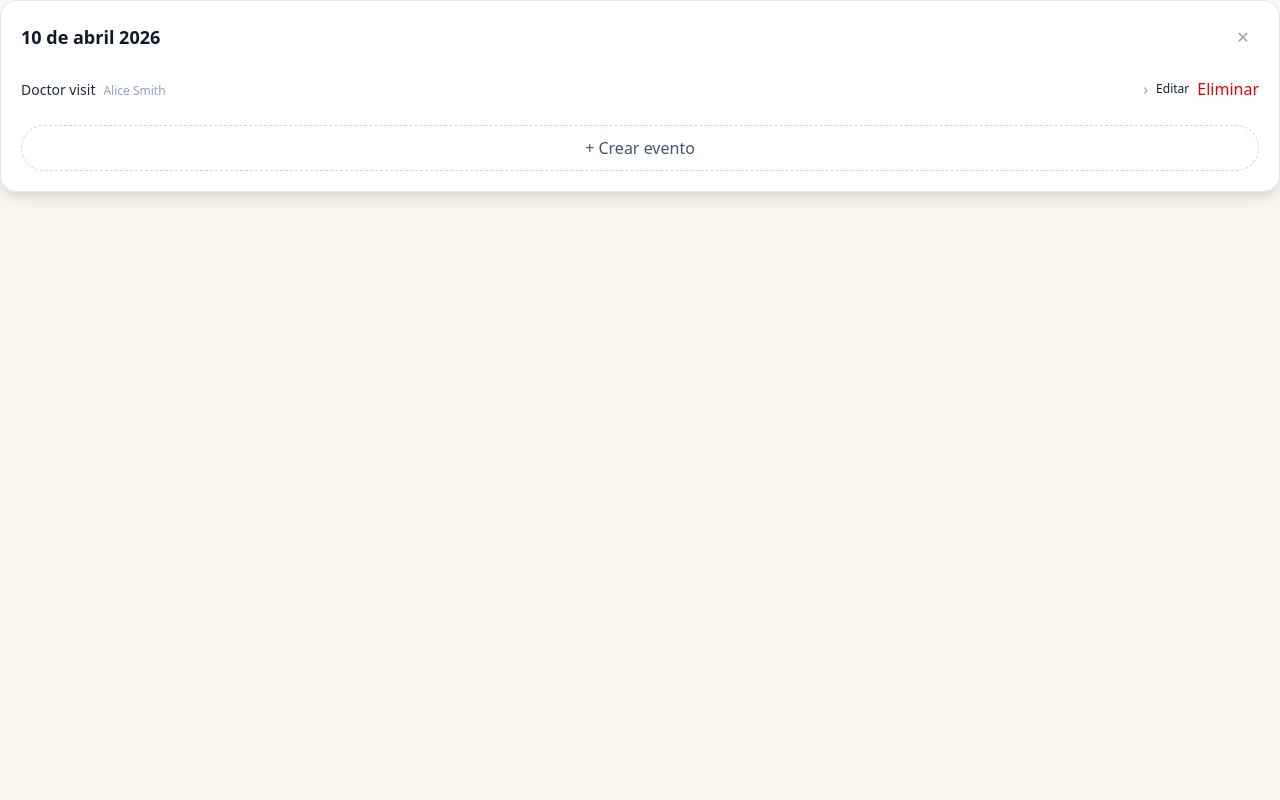
DayDetailPanel › opens the delete dialog when delete button is clicked
Click the button "Eliminar": [1228, 89] box [1197, 77, 1259, 101]
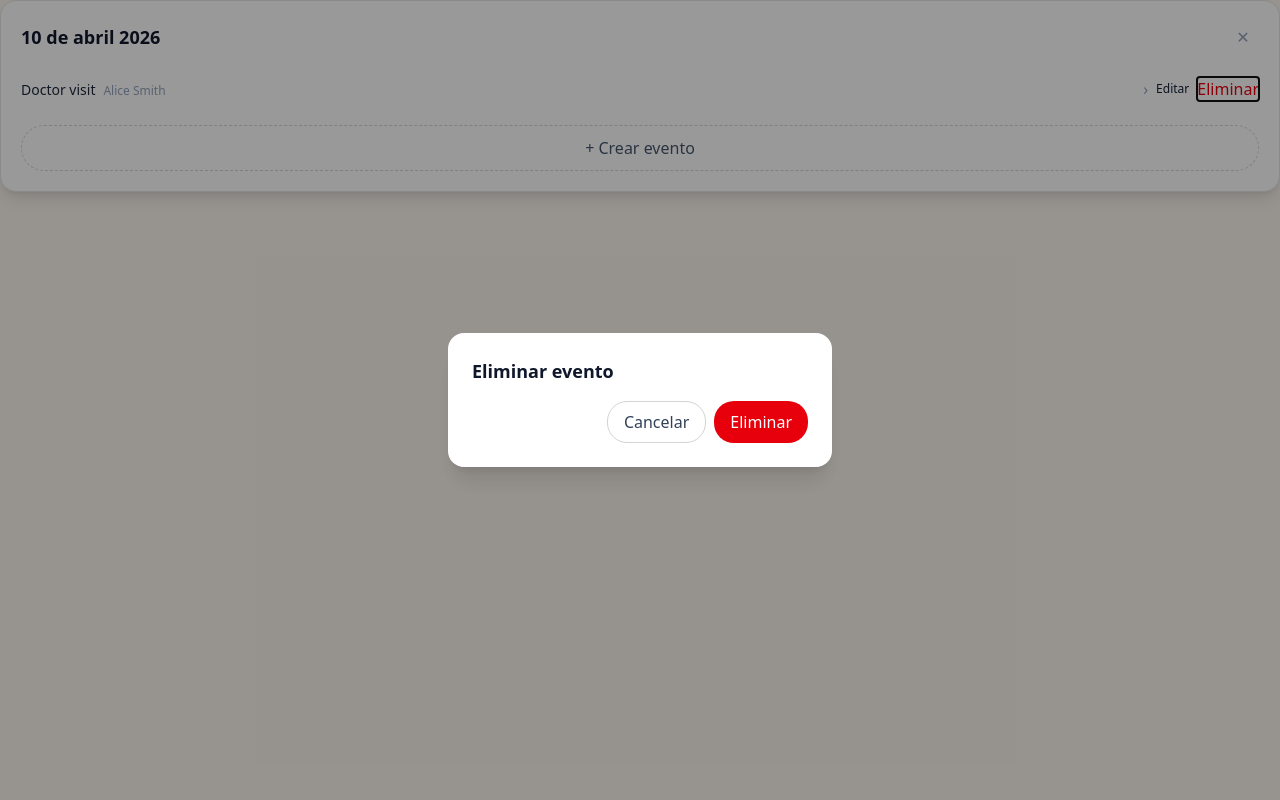
Now the heading "Eliminar evento" is shown, box [472, 359, 614, 383]
Now the button "Cancelar" is shown, box [607, 401, 706, 443]
